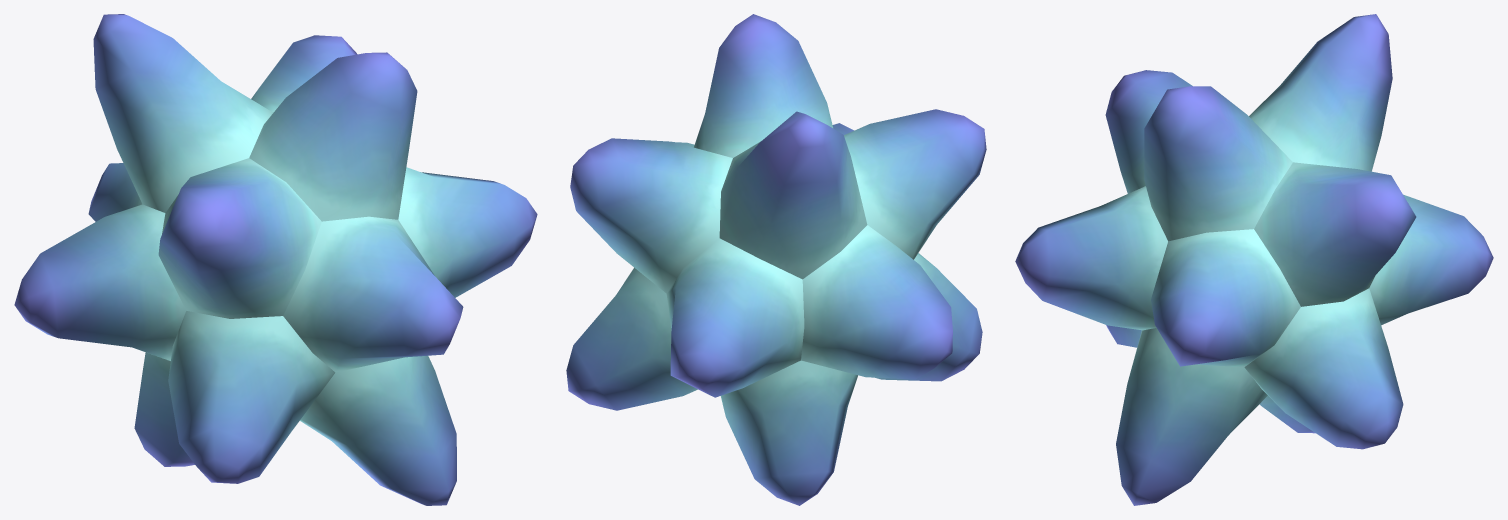
The model's file is large-star-fragment.glb.
3 renders of one model, left to right at view 1: azimuth 30°, elevation 25°; view 2: azimuth 150°, elevation 25°; view 3: azimuth 270°, elevation 25°, orthographic. The views are drawn at different scales.
Bounding box in the file's own units: 4.34 × 4.14 × 4.44.
1 material, 1 textured.
